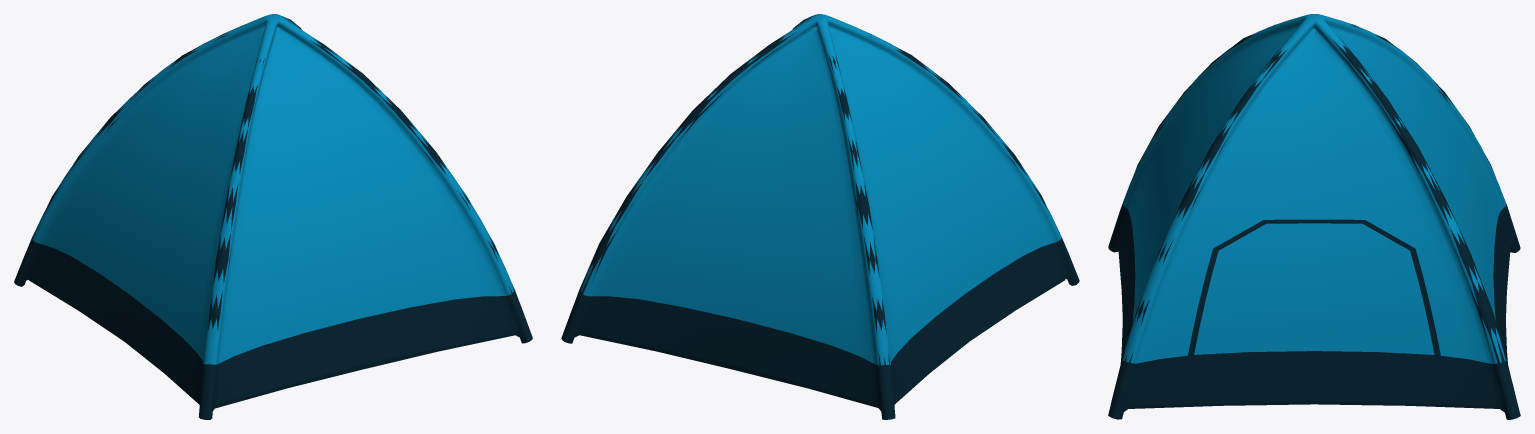
Rendered from tent.fbx.
3 renders of one model, left to right at view 1: azimuth 30°, elevation 25°; view 2: azimuth 150°, elevation 25°; view 3: azimuth 270°, elevation 25°, orthographic. The views are drawn at different scales.
Visible parts, largest first — view 1: polySurface1, pCube3, pCube1; view 2: polySurface1, pCube3, pCube1; view 3: polySurface1, polySurface2, pCube3, pCube1.
Part boxes in pixels (x1,y1,x2,y2): polySurface1: [14, 14, 532, 418]; pCube3: [22, 17, 525, 419]; pCube1: [29, 279, 514, 408]; polySurface1: [561, 14, 1079, 419]; pCube3: [564, 19, 1078, 419]; pCube1: [580, 278, 1065, 407]; polySurface1: [1108, 14, 1520, 419]; polySurface2: [1187, 219, 1441, 358]; pCube3: [1108, 24, 1520, 419]; pCube1: [1129, 401, 1498, 408].
Bounding box in the file's own units: 12.63 × 10.76 × 12.63.
